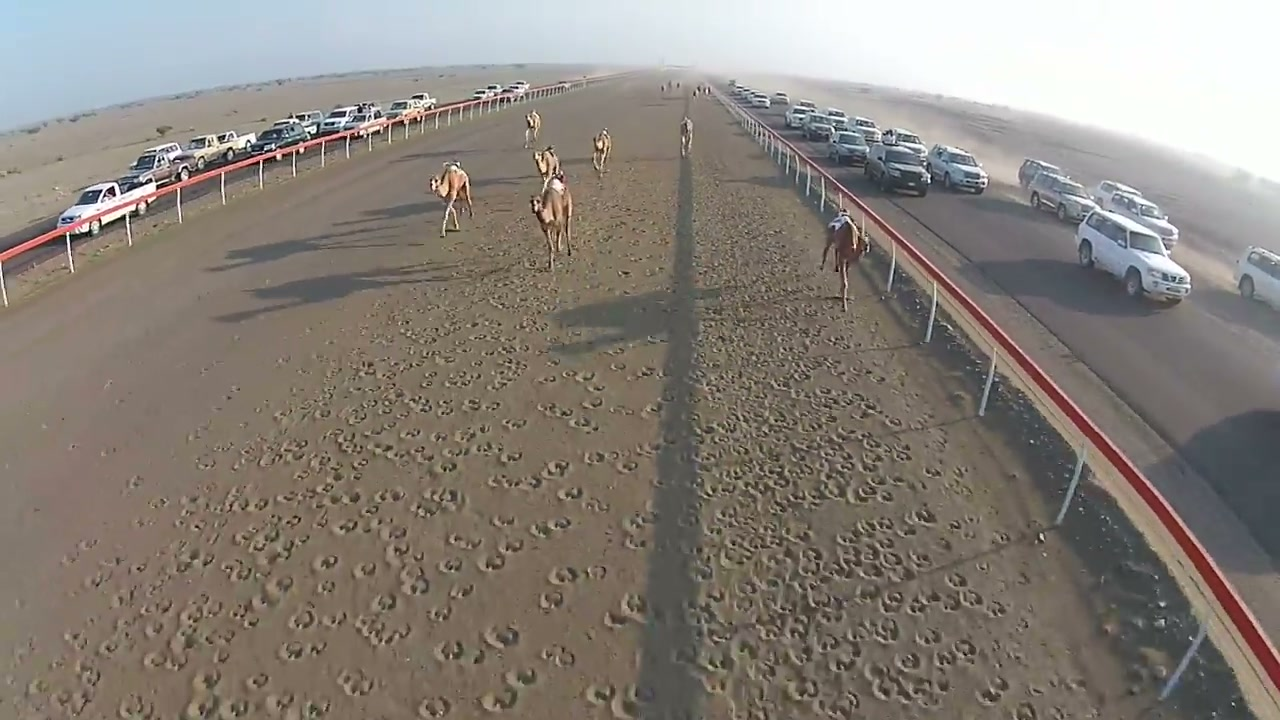animal_footprint: (6, 107, 1176, 719), (18, 176, 674, 717), (30, 312, 660, 717), (687, 184, 1128, 716), (416, 695, 452, 719)
